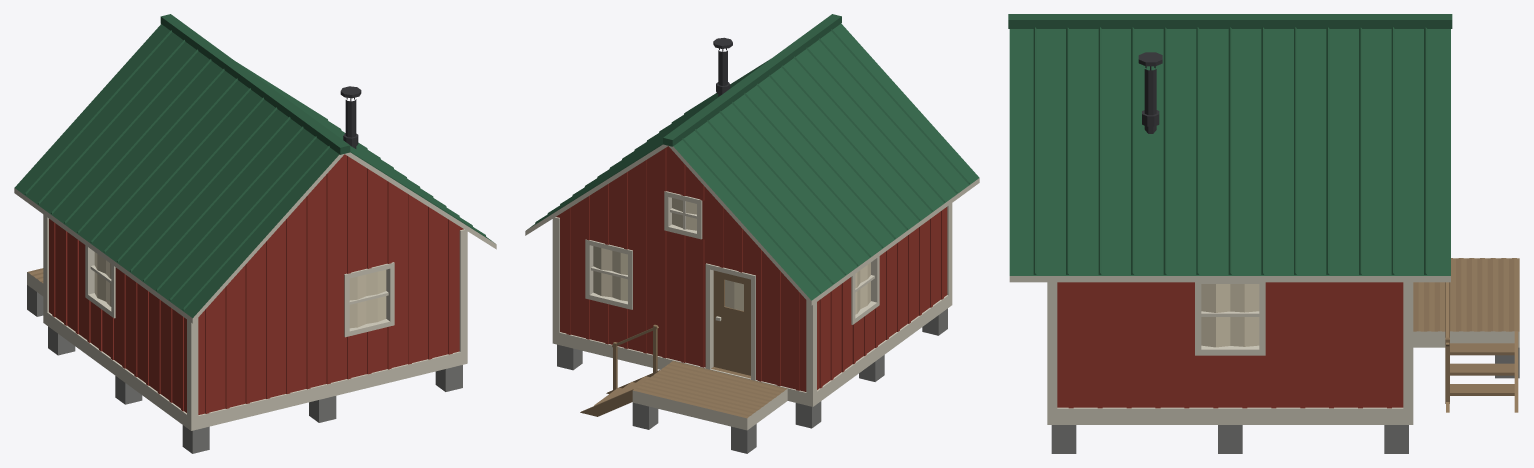
Rendered from cabin-landing.glb.
3 renders of one model, left to right at view 1: azimuth 30°, elevation 25°; view 2: azimuth 150°, elevation 25°; view 3: azimuth 270°, elevation 25°, orthographic. The views are drawn at different scales.
Visible parts, largest first — view 1: cabin-landing; view 2: cabin-landing; view 3: cabin-landing.
Part boxes in pixels (<box>): cabin-landing: <box>14,14,496,453</box>; cabin-landing: <box>525,14,979,453</box>; cabin-landing: <box>1008,14,1519,453</box>.
Size of the model in its own units: 6 by 5.42 by 7.07.
